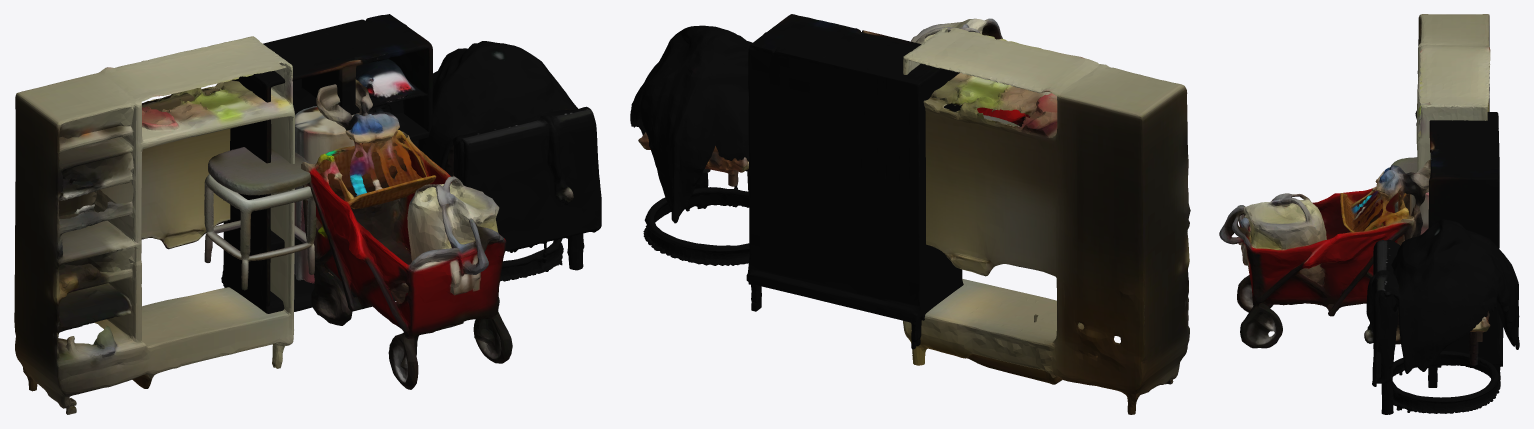
Rendered from scenegen.glb.
3 views of the same model, side by side, from view 1: azimuth 30°, elevation 25°; view 2: azimuth 150°, elevation 25°; view 3: azimuth 270°, elevation 25° (orthographic). The views are drawn at different scales.
Parts seen in each view (by area): view 1: geometry_1, geometry_2, geometry_0, geometry_3, geometry_4, geometry_5; view 2: geometry_1, geometry_3, geometry_0, geometry_2, geometry_7; view 3: geometry_2, geometry_0, geometry_3, geometry_1, geometry_5, geometry_4, geometry_6.
Boxes of the visible parts, box(x1,y1,x2,y2) form: geometry_1: box(14, 36, 294, 414); geometry_2: box(301, 79, 512, 389); geometry_0: box(418, 41, 601, 281); geometry_3: box(221, 14, 432, 313); geometry_4: box(204, 147, 316, 290); geometry_5: box(294, 106, 359, 283); geometry_1: box(903, 27, 1190, 414); geometry_3: box(746, 14, 963, 349); geometry_0: box(630, 25, 752, 265); geometry_2: box(911, 18, 1029, 126); geometry_7: box(638, 132, 748, 186); geometry_2: box(1219, 159, 1430, 348); geometry_0: box(1364, 219, 1519, 414); geometry_3: box(1428, 112, 1503, 387); geometry_1: box(1415, 14, 1490, 171); geometry_5: box(1410, 192, 1428, 234); geometry_4: box(1391, 157, 1417, 212); geometry_6: box(1468, 332, 1478, 365).
Bounding box in the file's own units: 1.96 × 1.07 × 1.18.
Materials: 8 (8 with a texture image).
